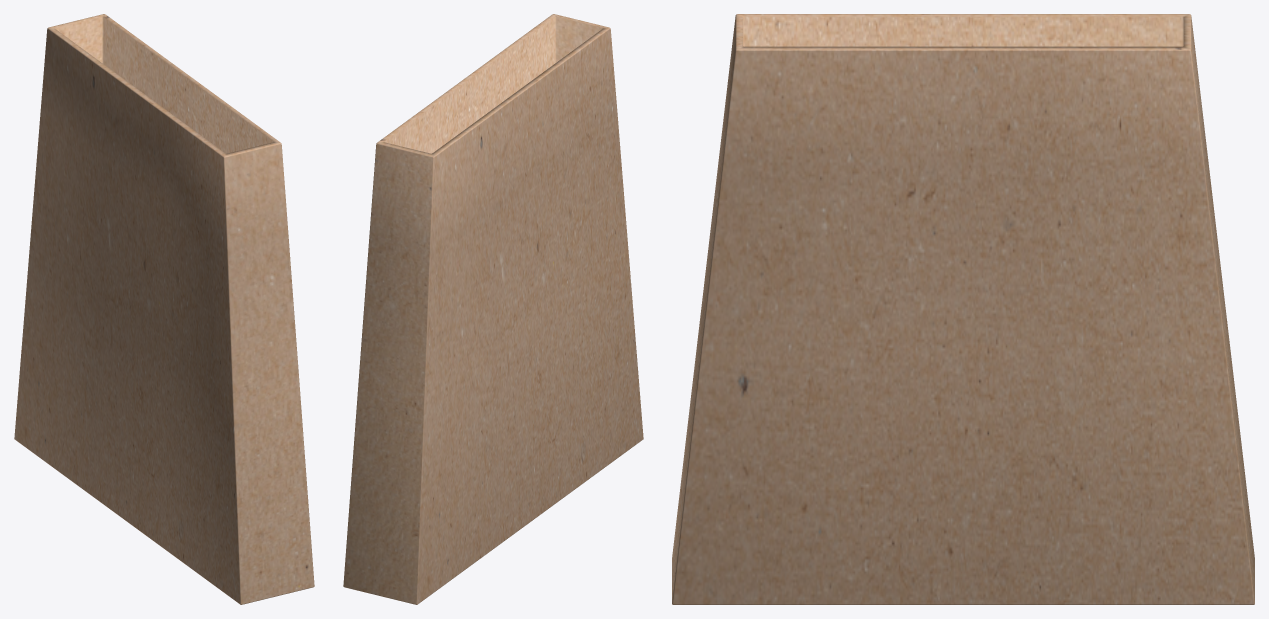
Rendered from paper_bag.fbx.
The picture shows the model from 3 angles, left to right: view 1: azimuth 30°, elevation 25°; view 2: azimuth 150°, elevation 25°; view 3: azimuth 270°, elevation 25°; orthographic projection. The views are drawn at different scales.
Visible parts, largest first — view 1: paper bag; view 2: paper bag; view 3: paper bag.
Boxes of the visible parts, x1,y1,x2,y2 form: paper bag: (14,14,314,604); paper bag: (343,14,643,604); paper bag: (672,14,1254,604).
Bounding box in the file's own units: 6.71 × 36.98 × 35.49.
1 material, 1 textured.
